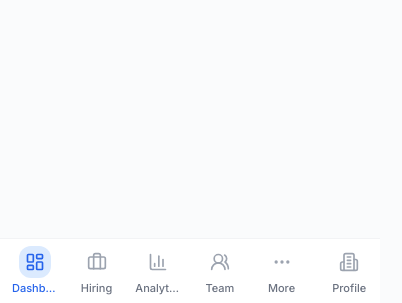
Test: UserContextNavigation role experience › keeps company admin overflow focused on non-profile destinations
Click the button with aria-label "More navigation": [282, 271] box [253,238,310,302]
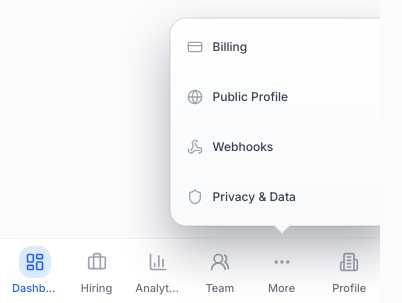
Expected: the menu item "Billing" is shown, [176,25,386,69]
